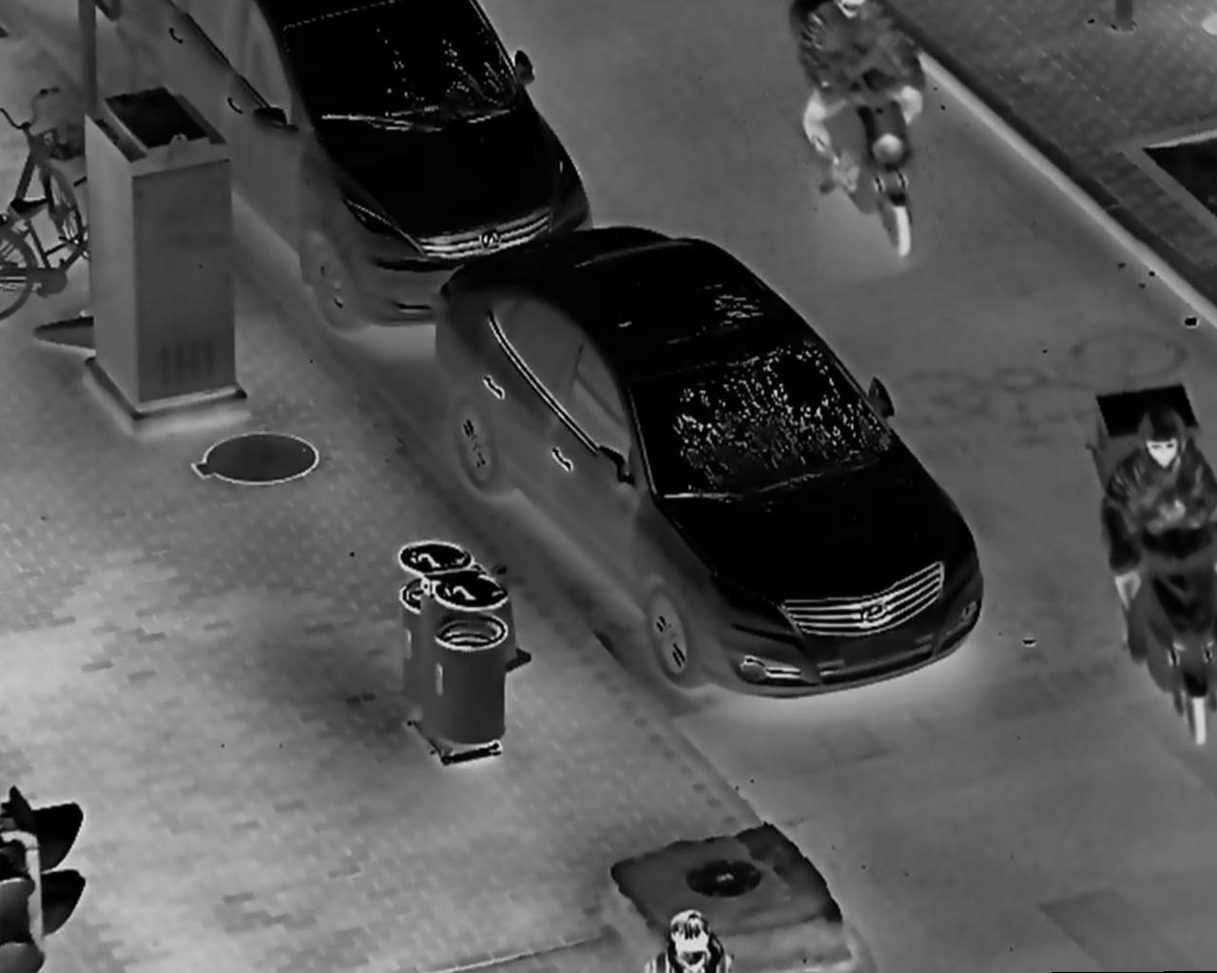person: (1097, 407, 1217, 654), (639, 904, 735, 973)
